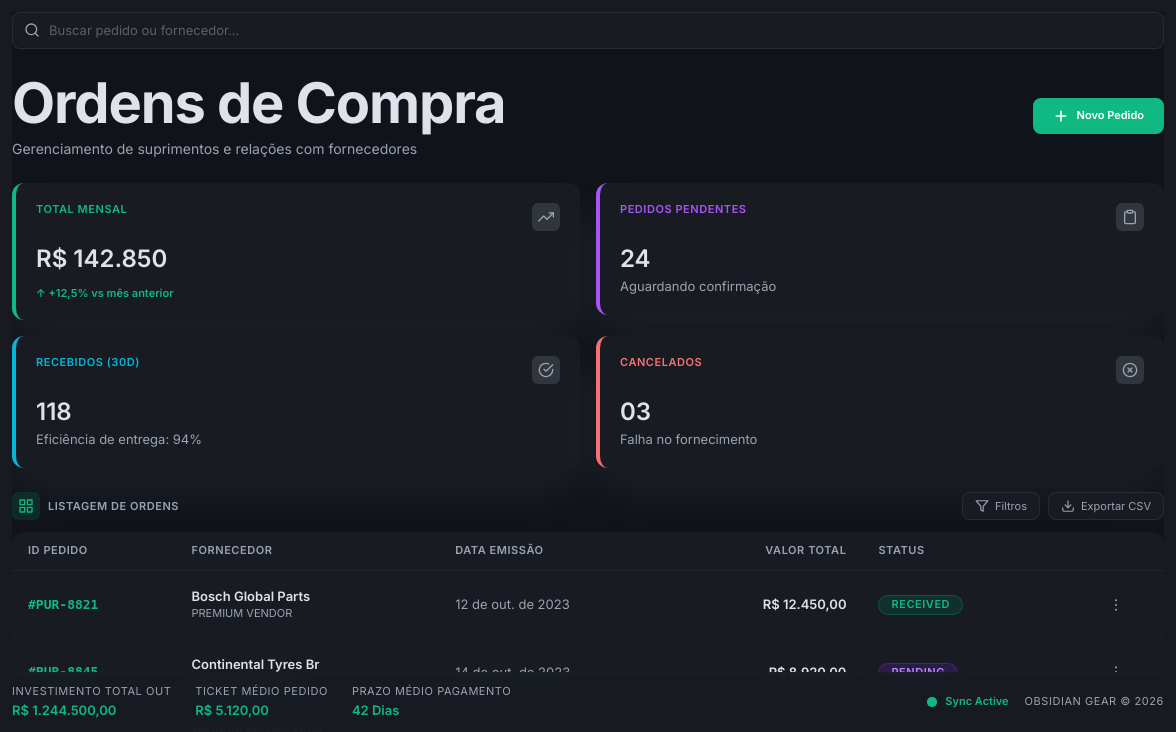
PurchasesPage — 4.x Busca e filtros integrados › 4.2 — "Limpar filtros" restaura todos os registros
The width and height of the screenshot is (1176, 732).
Click the button with aria-label "abrir filtros" at (1001,506), box [962,492,1040,520]
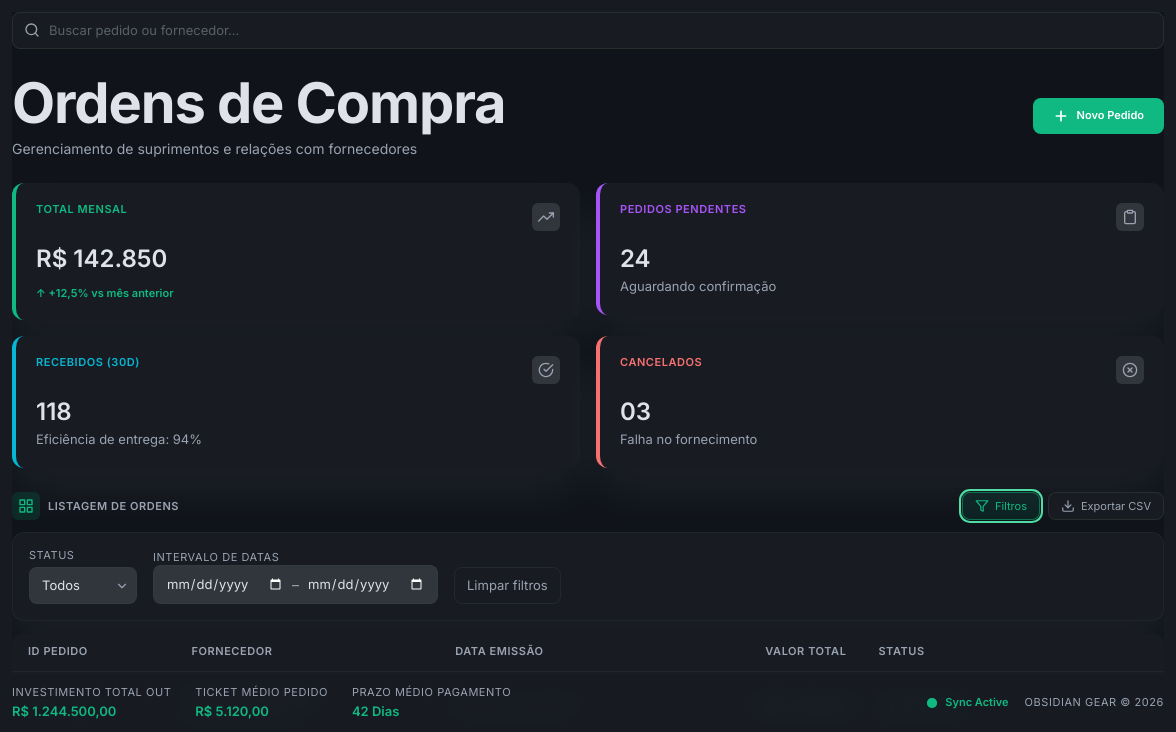
Select "Pending" in the dropdown named "filtrar por status" at (83,586), box [29,567,137,604]
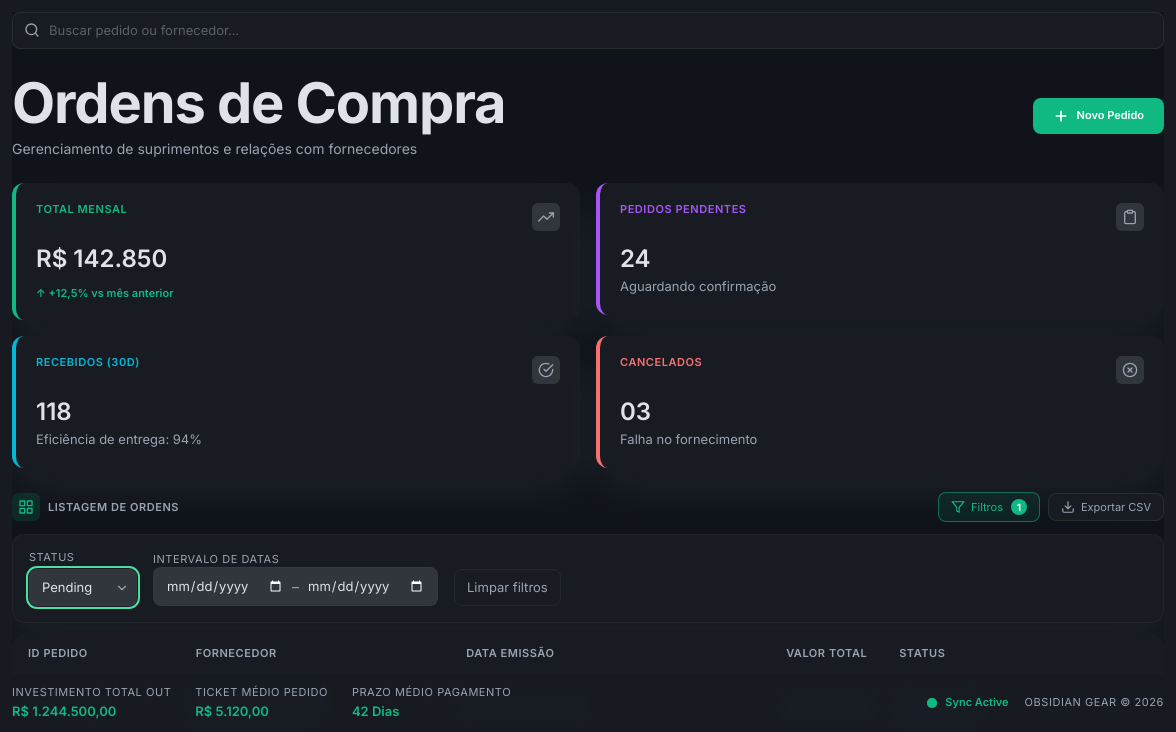
Expected: the text "#PUR-8821" is not shown
Click the button "Limpar filtros" at (507,588), box [454,569,561,606]
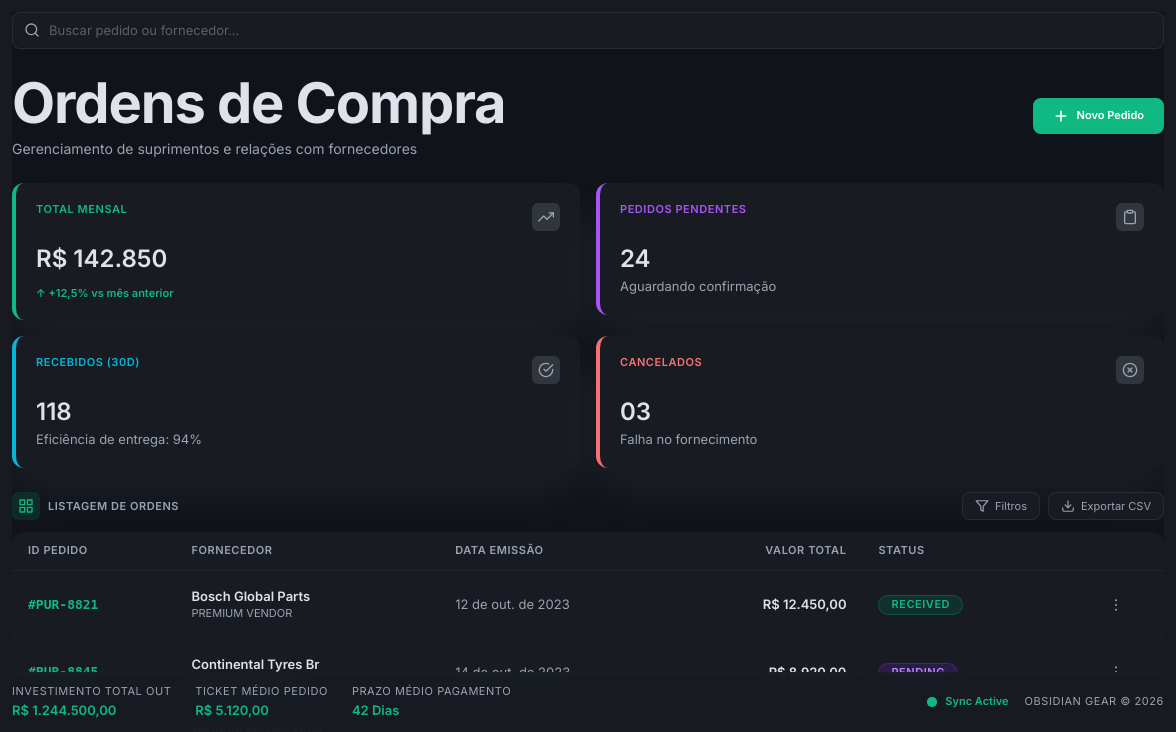
Expected: the text "#PUR-8845" is shown, [28,664,98,679]
Result: the text "#PUR-8821" is shown at [28,597,98,612]
